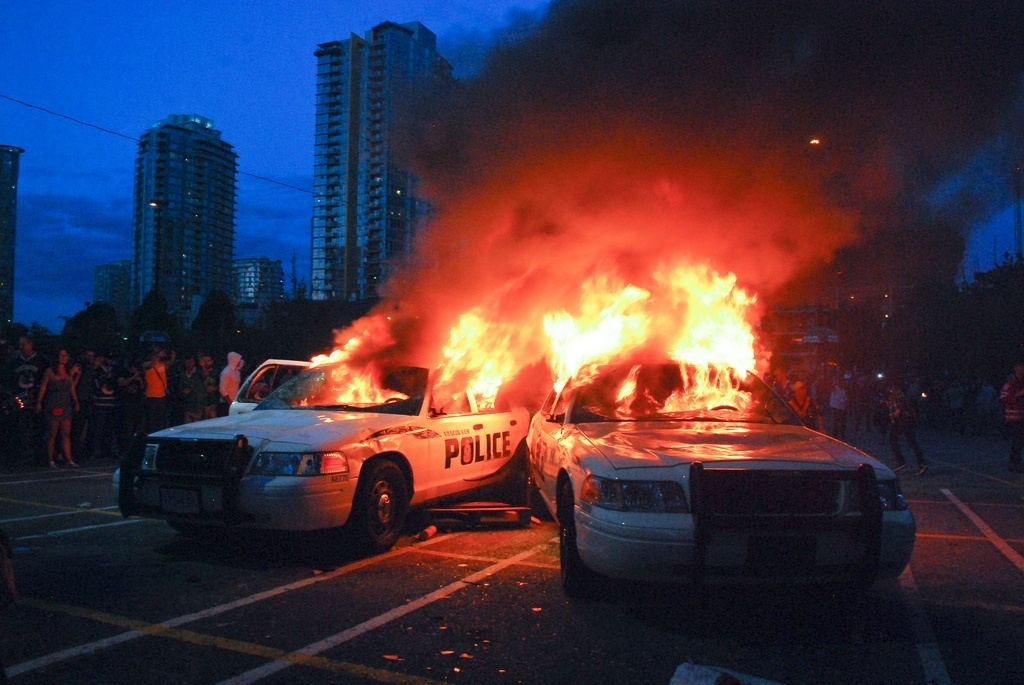fire: (399, 256, 774, 422), (304, 316, 399, 409)
